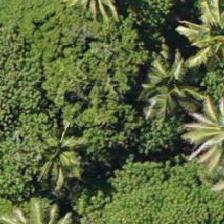coconut_tree: (131, 36, 221, 126), (0, 108, 82, 198), (155, 0, 223, 78)
